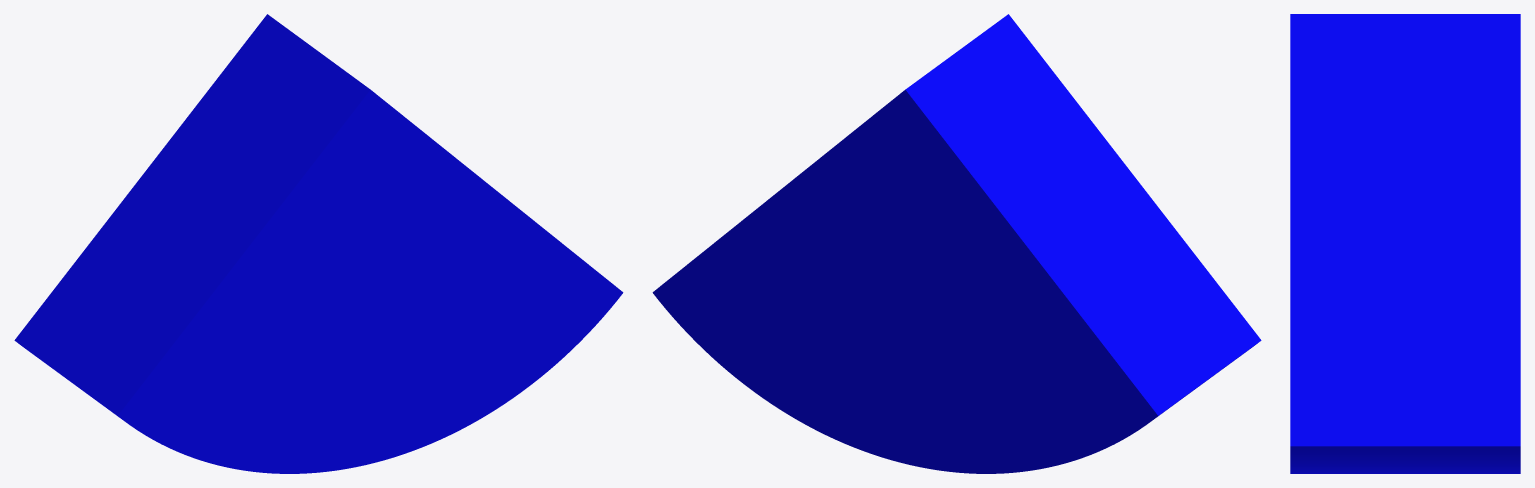
The model's file is blueAttackRadius100.obj.
3 renders of one model, left to right at view 1: azimuth 30°, elevation 25°; view 2: azimuth 150°, elevation 25°; view 3: azimuth 270°, elevation 25°, orthographic. The views are drawn at different scales.
Visible parts, largest first — view 1: ボディ1; view 2: ボディ1; view 3: ボディ1.
Boxes of the visible parts, x1=… form: ボディ1: x1=14, y1=14, x2=623, y2=473; ボディ1: x1=652, y1=14, x2=1261, y2=473; ボディ1: x1=1290, y1=14, x2=1520, y2=473.
Size of the model in its own units: 141 by 99.99 by 50.
